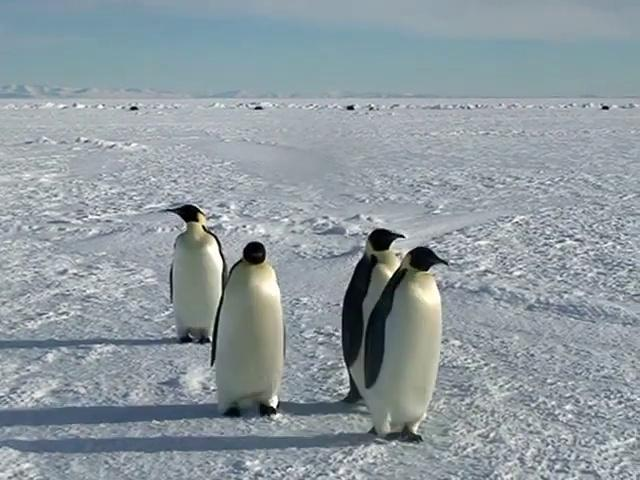animal: (364, 247, 446, 441)
